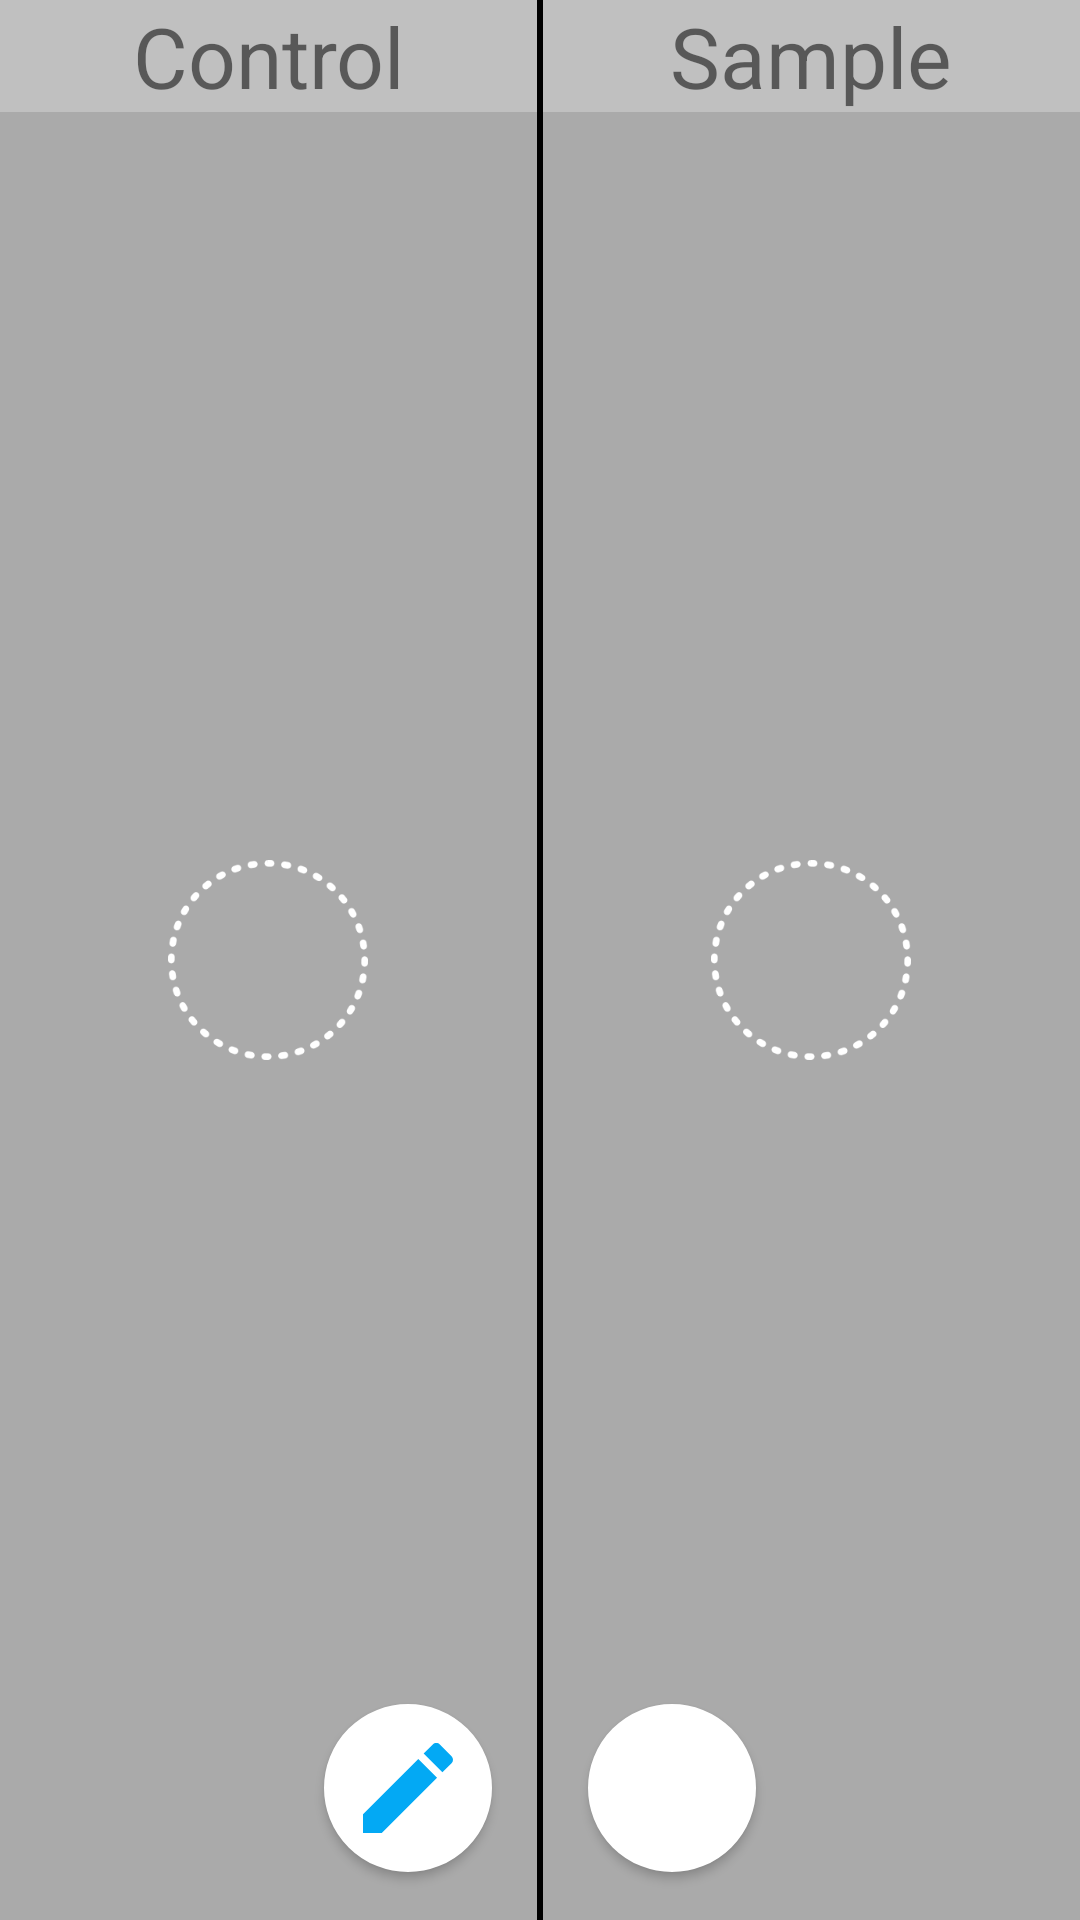

Where icons sit on this 1080 × 1920 app screen, as (x1, y1, x2, y2):
circle: (168, 860, 368, 1060), (711, 860, 911, 1060)
edit: (363, 1743, 453, 1833)
